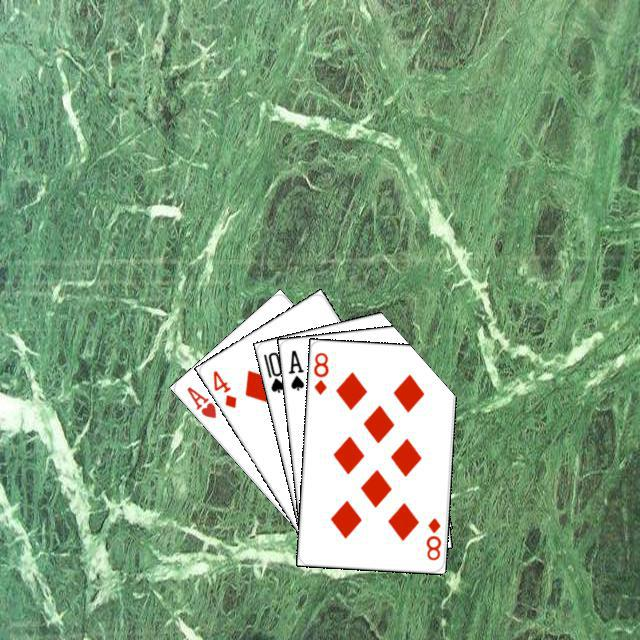10s: (258, 347, 286, 394)
4d: (208, 365, 238, 410)
8d: (421, 513, 443, 562), (309, 348, 330, 396)
Ah: (181, 382, 218, 420)
As: (283, 345, 306, 392)
